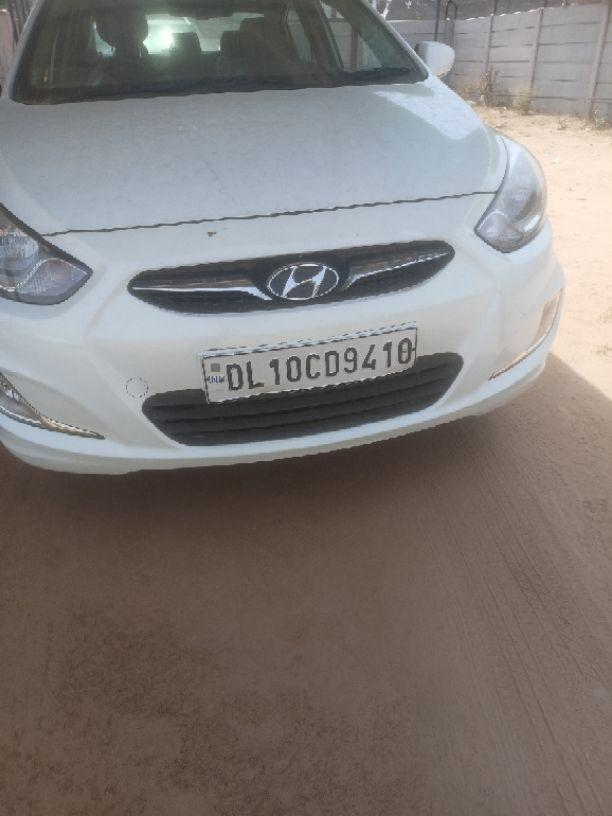license_plate: (197, 323, 419, 405)
